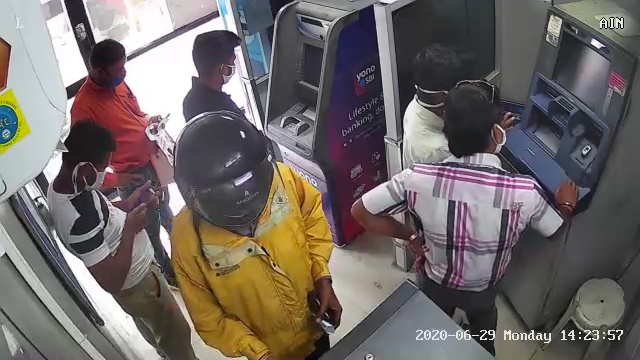helmet: (157, 108, 285, 229)
